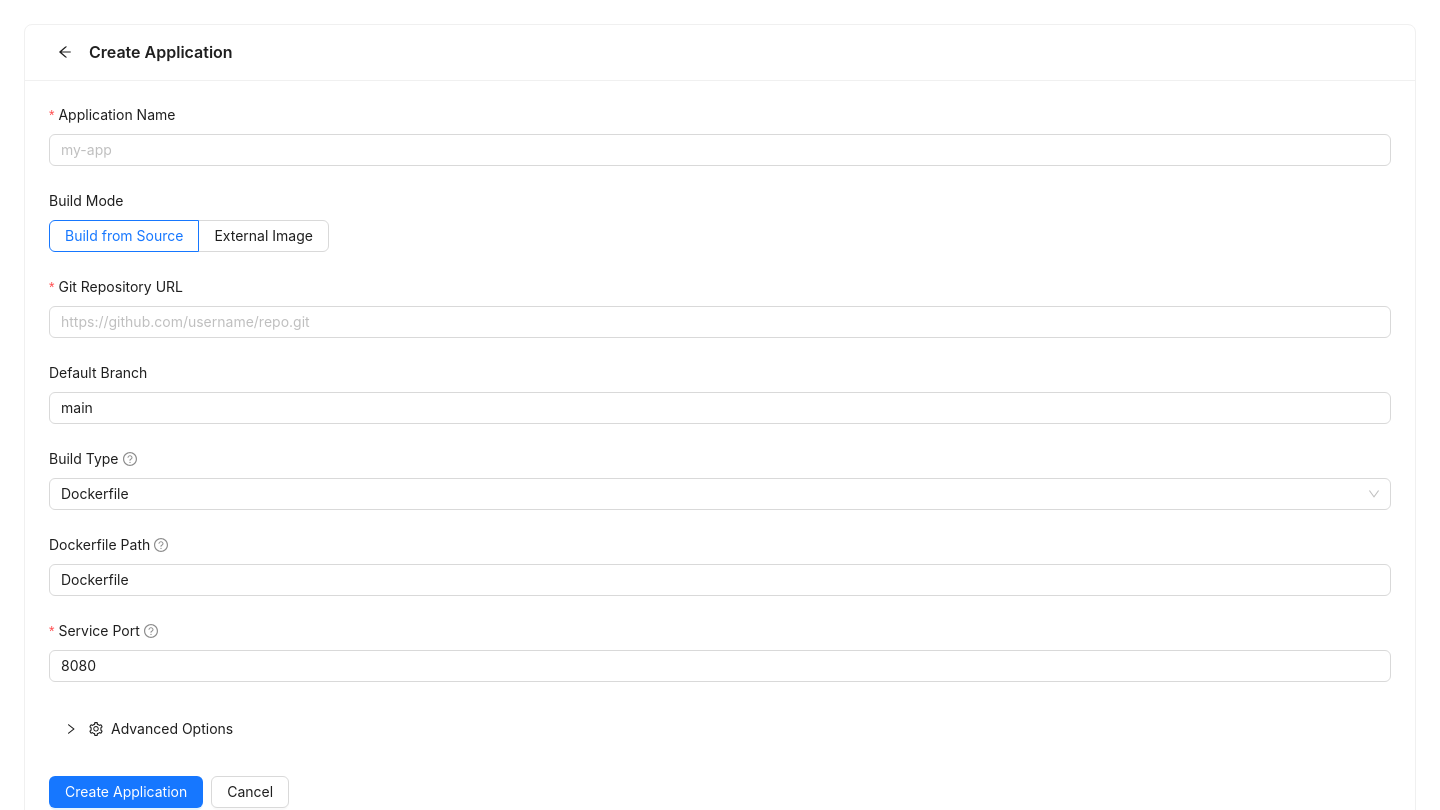
CreateApp Component › validates Git URL format
This screenshot has width=1440, height=810.
Enter invalid URL
Type "not-a-url" into the field labelled "Git Repository URL" at (720,322), box [49,306,1391,338]
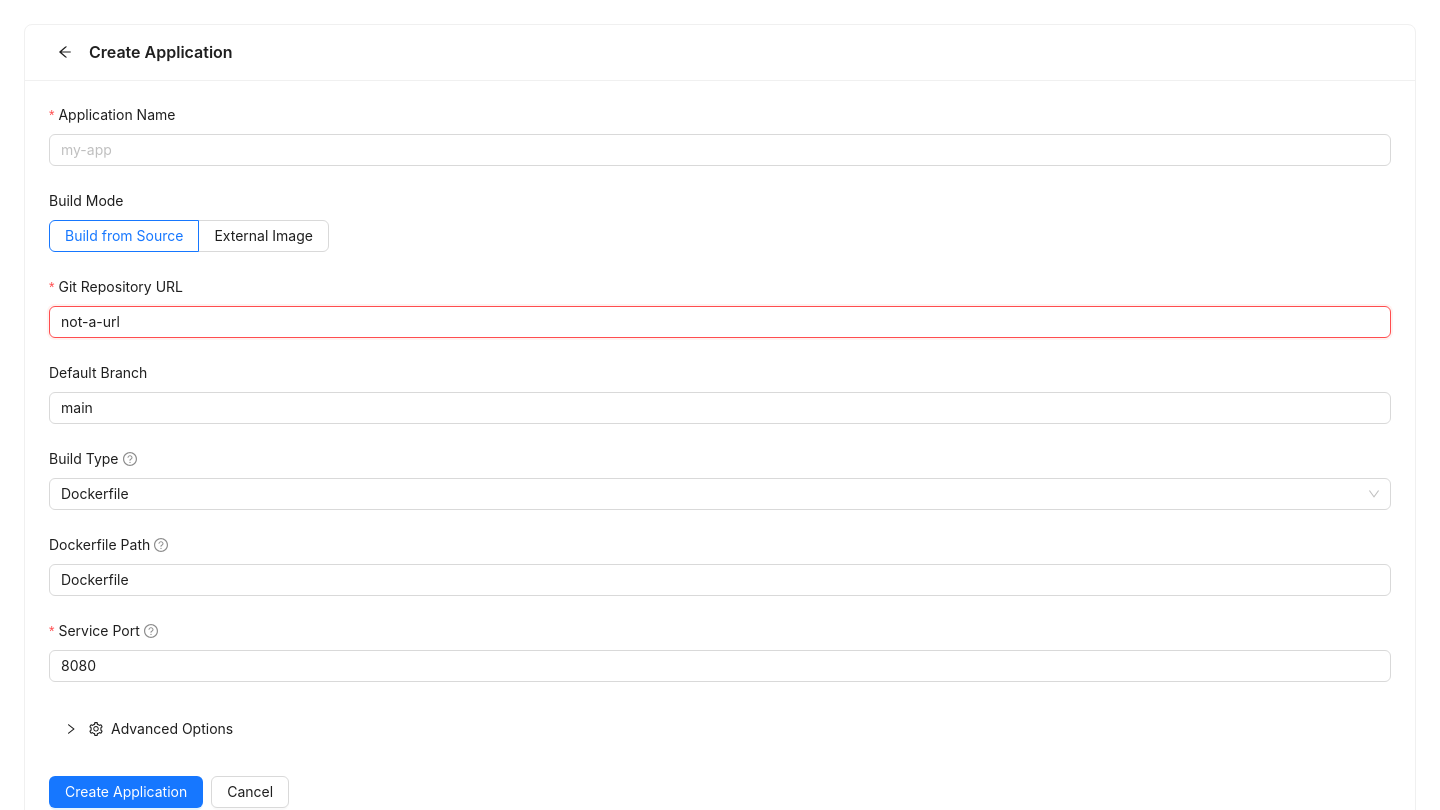
Click the button "Create Application" at (126,792), box [49,776,203,808]
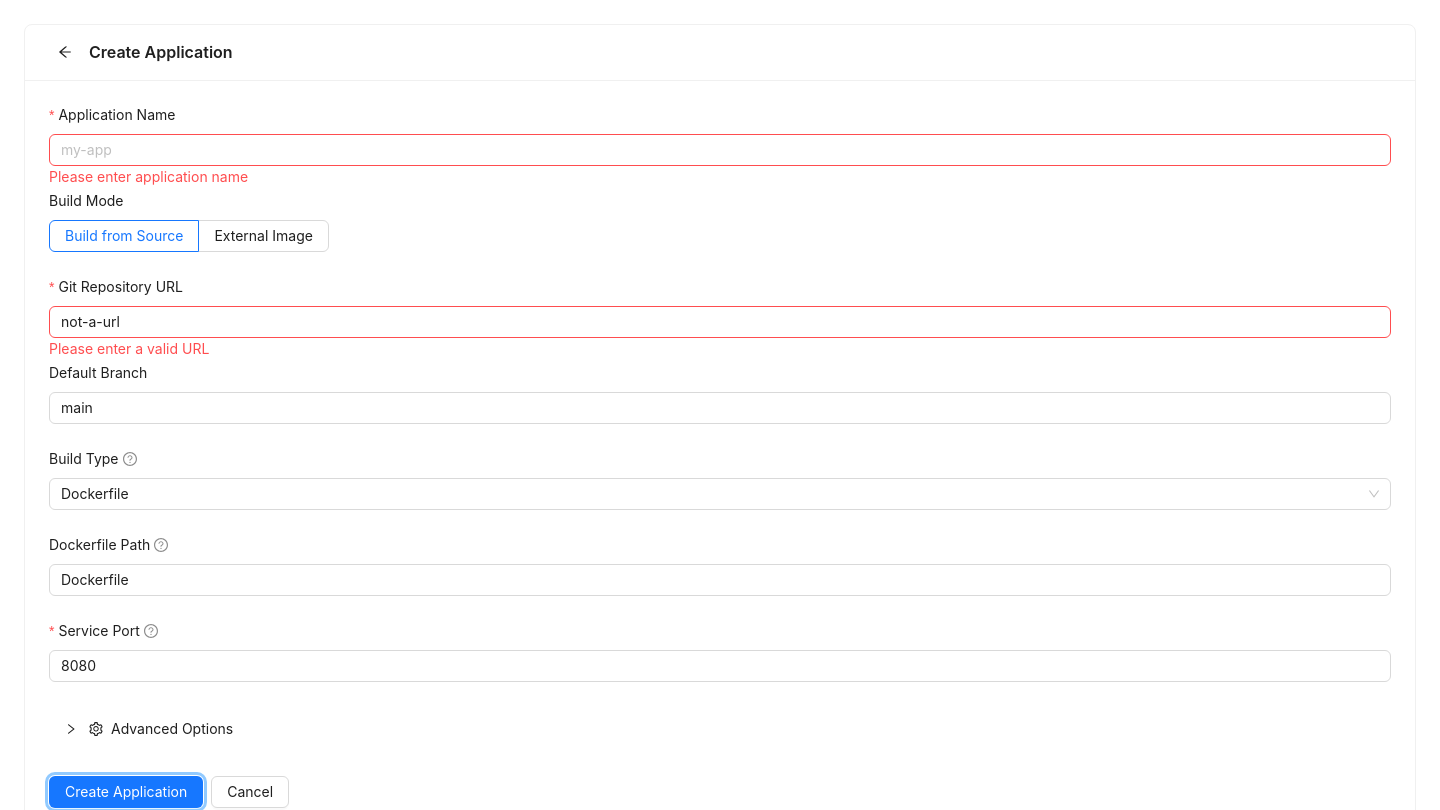
expect the text "Please enter a valid URL" is shown: met, box [49,340,209,357]
